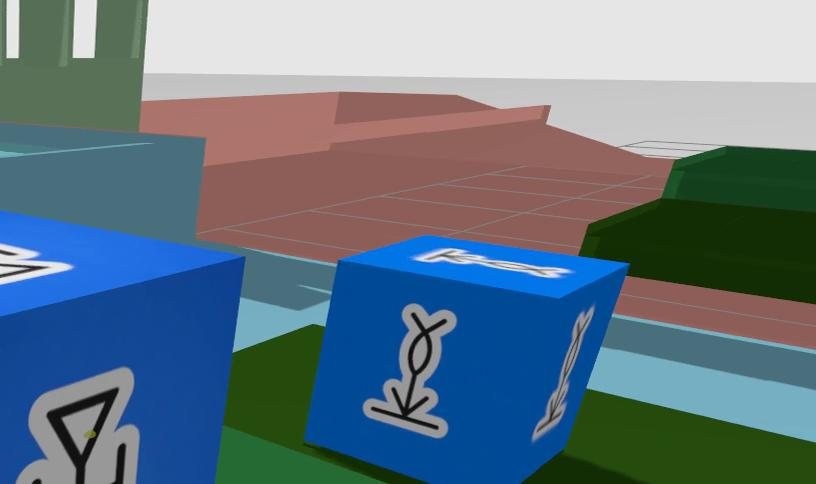KFS_REAL: (304, 236, 627, 483), (15, 368, 139, 483), (363, 304, 456, 438), (532, 305, 593, 441), (415, 249, 570, 277), (0, 243, 73, 285)
